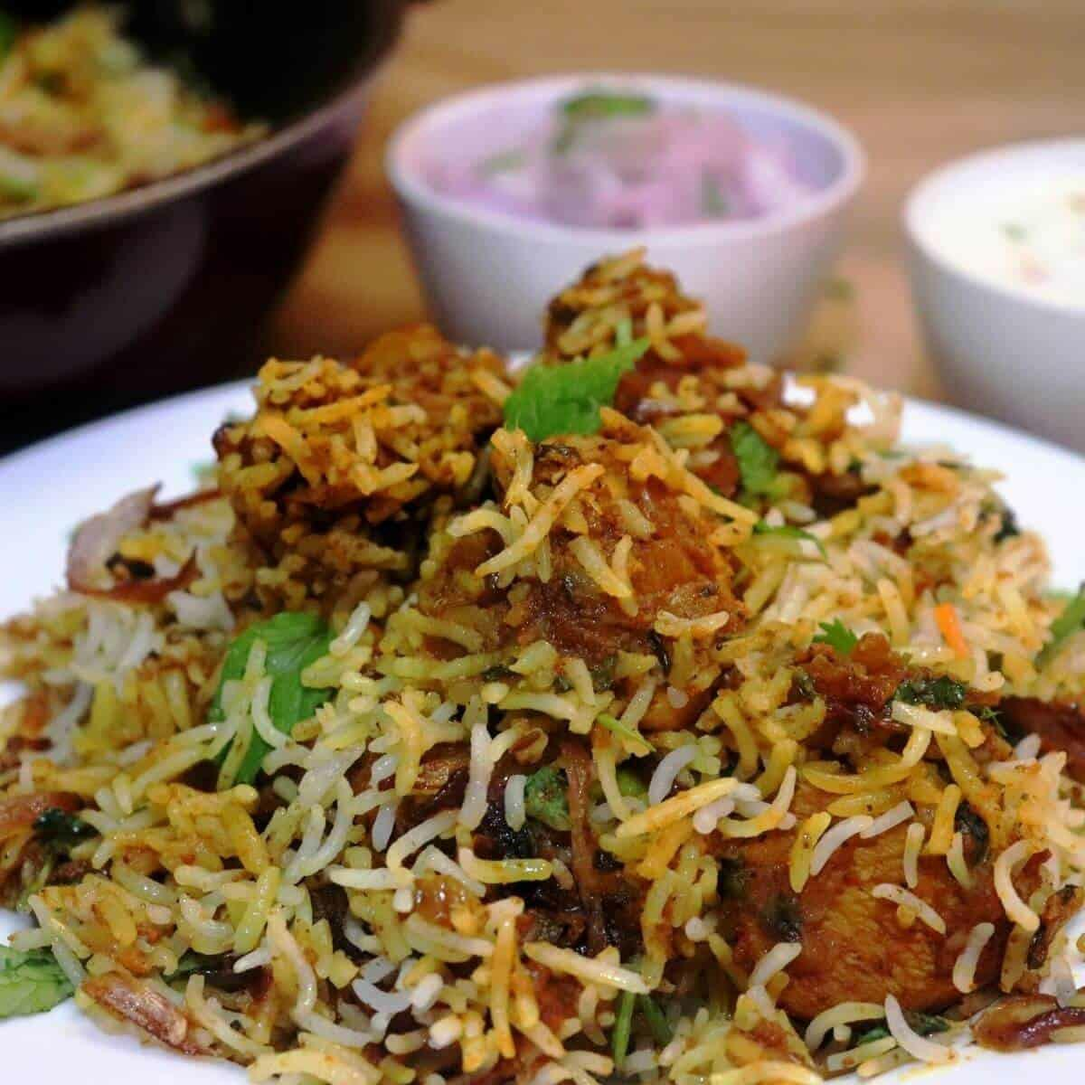Biryani: (0, 251, 1085, 1085)
